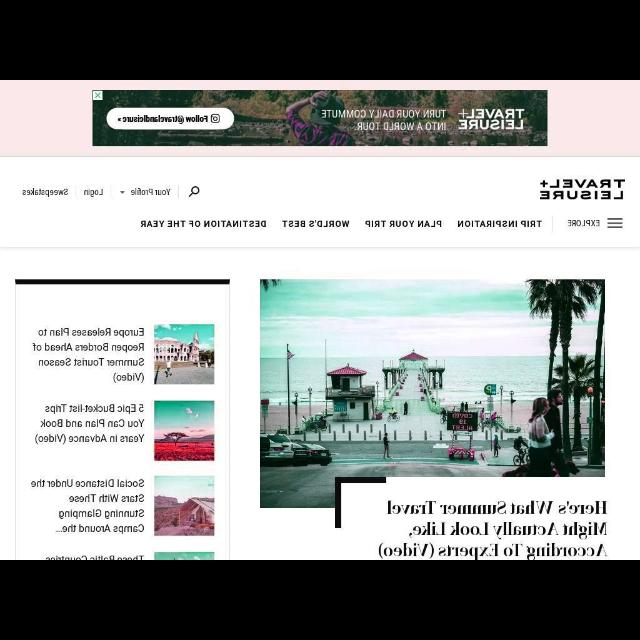icon: (606, 218, 624, 230), (188, 186, 200, 198), (120, 189, 126, 195)
iframe: (91, 91, 547, 147)
image: (259, 279, 605, 507), (154, 475, 216, 537), (153, 324, 215, 384), (153, 401, 214, 461), (538, 178, 626, 202), (156, 552, 214, 560)
multitab: (139, 218, 601, 228), (20, 187, 172, 199)
spinner: (118, 187, 172, 199)
text: (378, 502, 606, 558), (30, 478, 146, 534), (32, 328, 146, 382), (34, 403, 146, 445), (140, 217, 268, 229), (366, 217, 442, 229), (458, 218, 544, 228), (282, 219, 350, 229), (22, 188, 68, 198), (130, 187, 172, 197), (567, 218, 601, 228), (82, 188, 104, 198)
